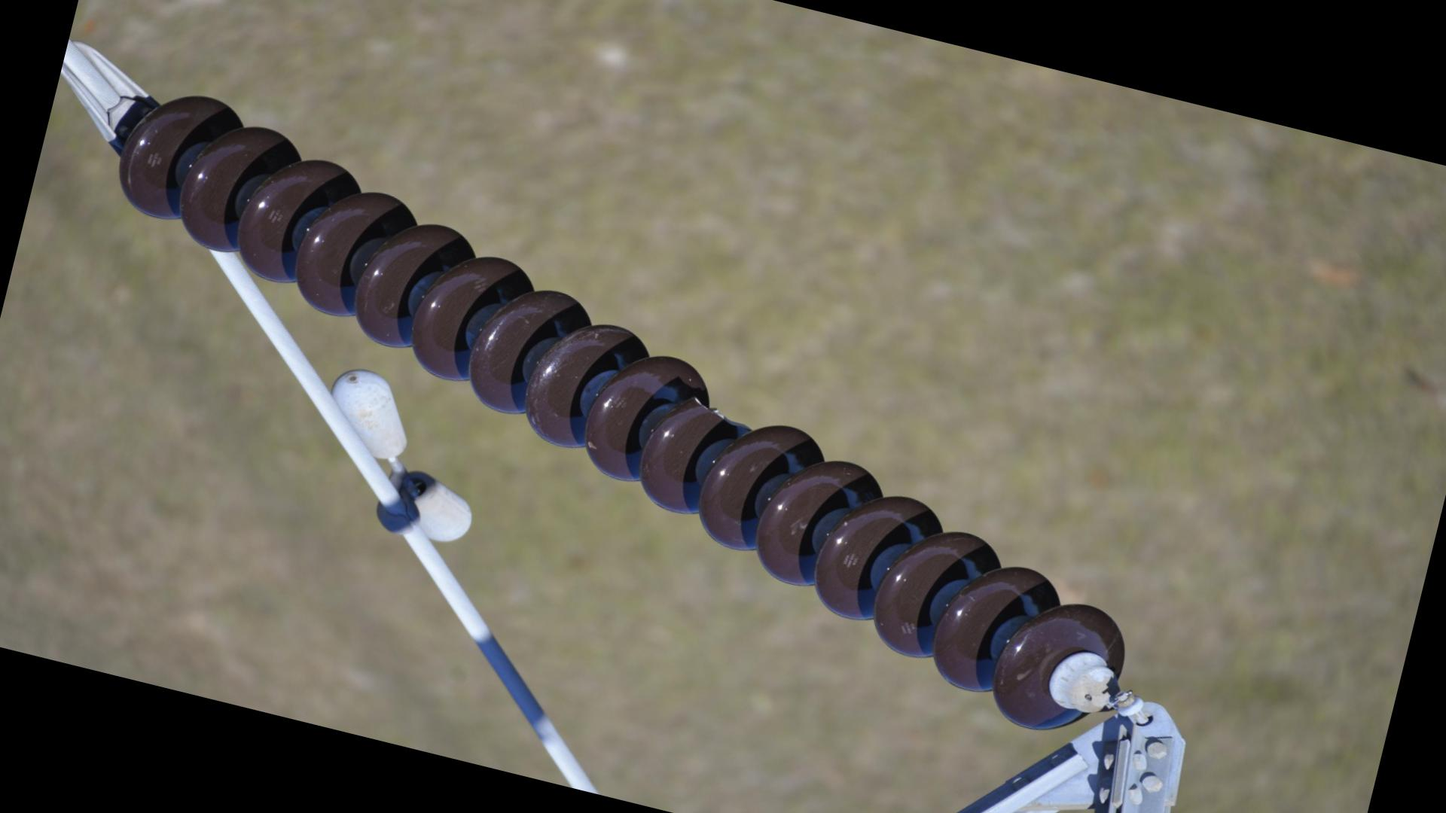damper: (294, 356, 508, 559)
